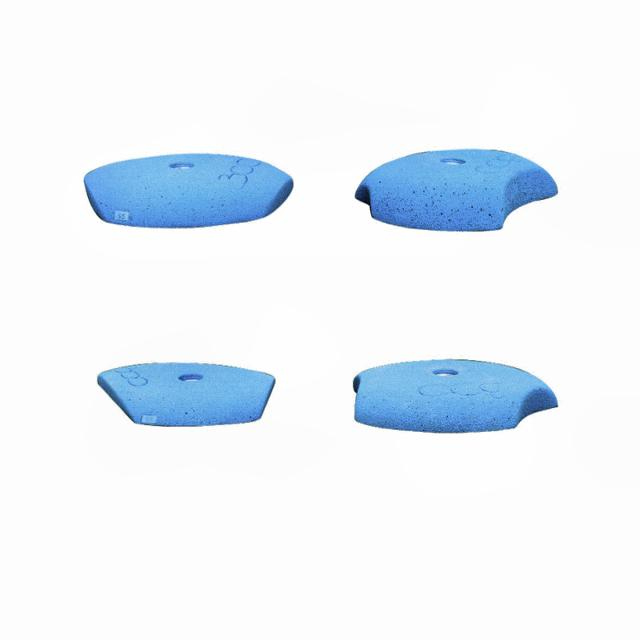Hold: (349, 356, 564, 440), (362, 148, 567, 233), (82, 154, 300, 230), (101, 361, 274, 428)
